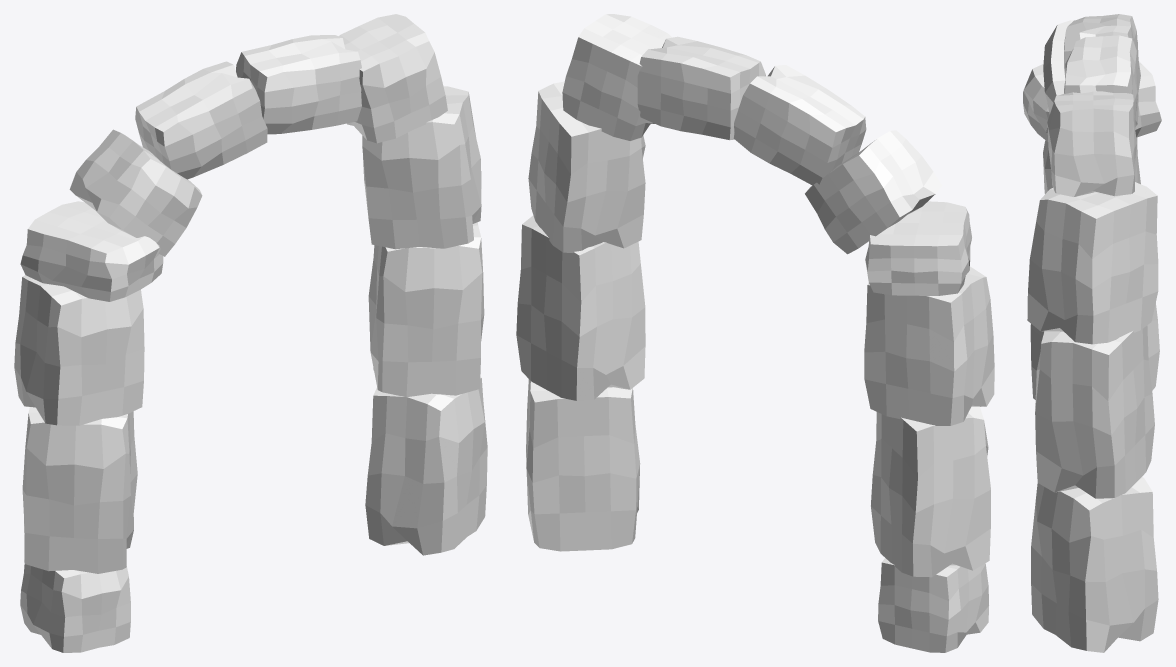
File: Steinbogen.fbx
3 renders of one model, left to right at view 1: azimuth 30°, elevation 25°; view 2: azimuth 150°, elevation 25°; view 3: azimuth 270°, elevation 25°, orthographic.
Parts seen in each view (by area): view 1: Steinblock.008; view 2: Steinblock.008; view 3: Steinblock.008.
Part boxes in pixels (x1,y1,x2,y2): Steinblock.008: (14, 14, 487, 652); Steinblock.008: (516, 14, 994, 652); Steinblock.008: (1023, 14, 1161, 652).
Bounding box in the file's own units: 627 × 689 × 163.
